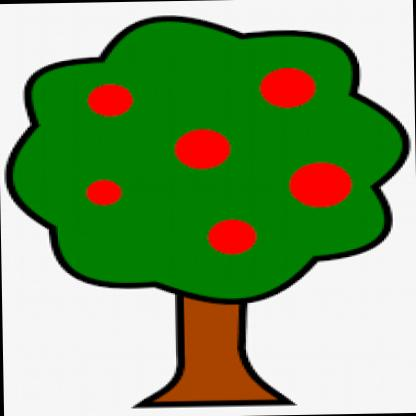apple: (284, 158, 354, 208), (170, 125, 233, 170), (256, 66, 318, 110), (84, 79, 136, 118), (206, 218, 260, 254), (85, 178, 126, 209)
crown_cloud: (8, 14, 415, 305)
trunk_reflex: (164, 313, 261, 371)
